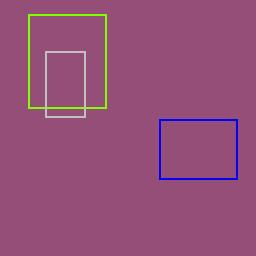Person: (159, 118, 238, 179)
Safety Vest: (28, 14, 106, 108)
Smoke: (45, 50, 85, 118)
